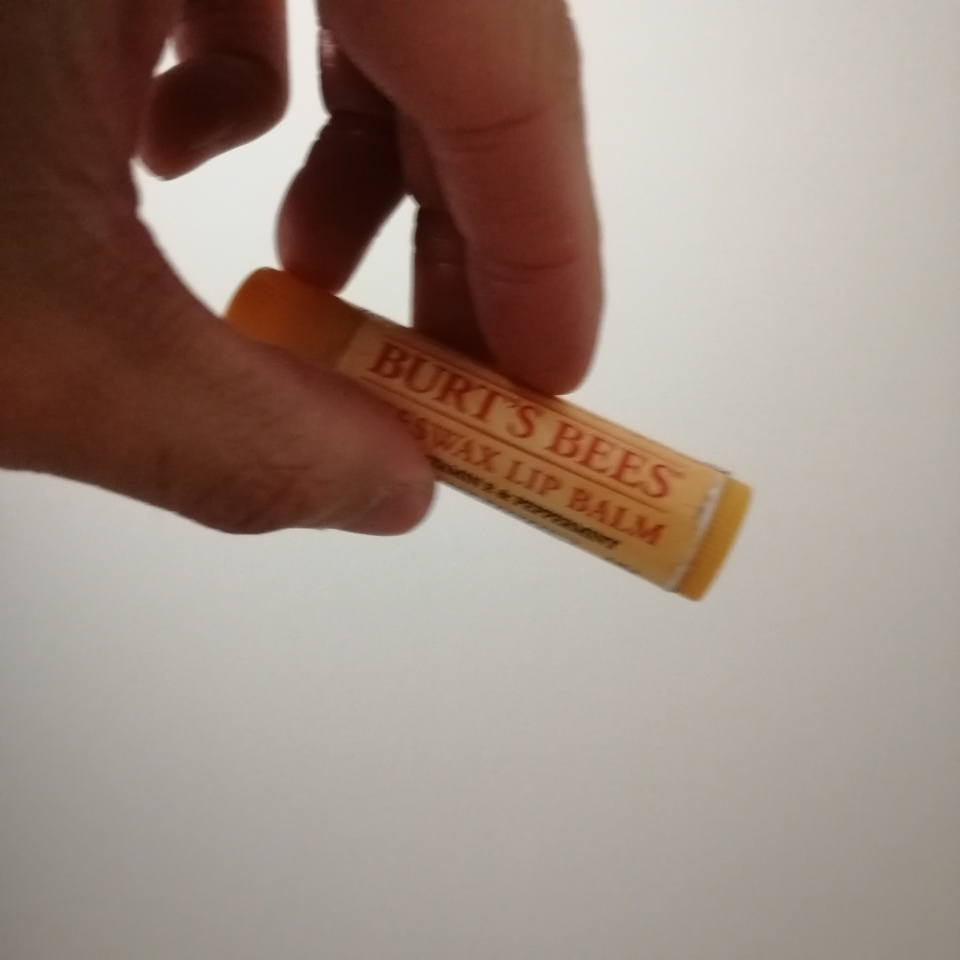chapstick: (219, 266, 755, 602)
